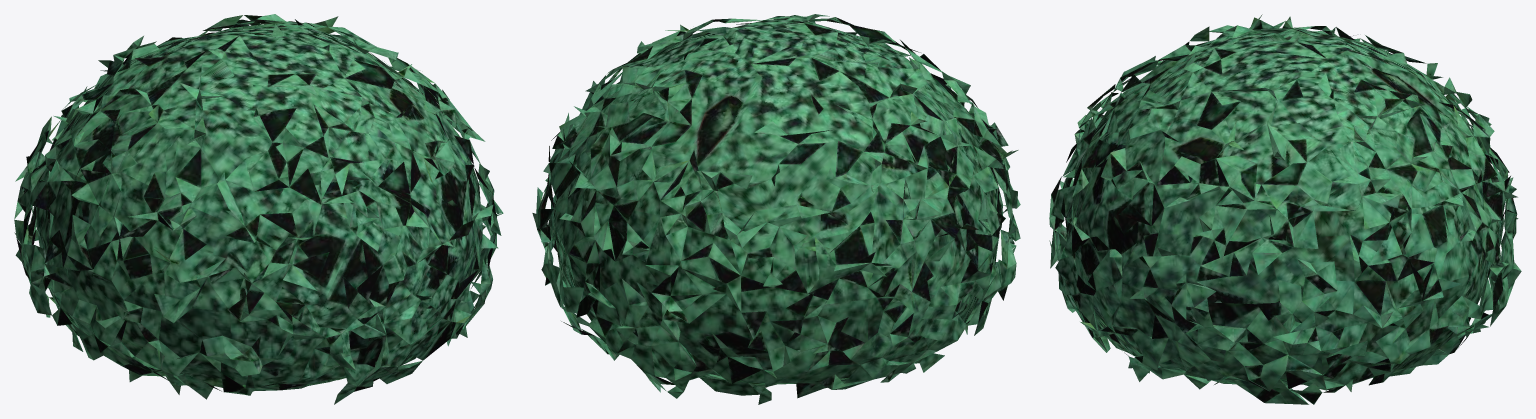
The model's file is bush.glb.
3 views of the same model, side by side, from view 1: azimuth 30°, elevation 25°; view 2: azimuth 150°, elevation 25°; view 3: azimuth 270°, elevation 25° (orthographic). The views are drawn at different scales.
Visible parts, largest first — view 1: Mesh_0; view 2: Mesh_0; view 3: Mesh_0.
Boxes of the visible parts, <box> form: Mesh_0: <box>14,14,503,404</box>; Mesh_0: <box>532,14,1020,404</box>; Mesh_0: <box>1049,14,1521,404</box>.
Bounding box in the file's own units: 0.0905 × 0.06 × 0.0884.
1 material, 1 textured.
